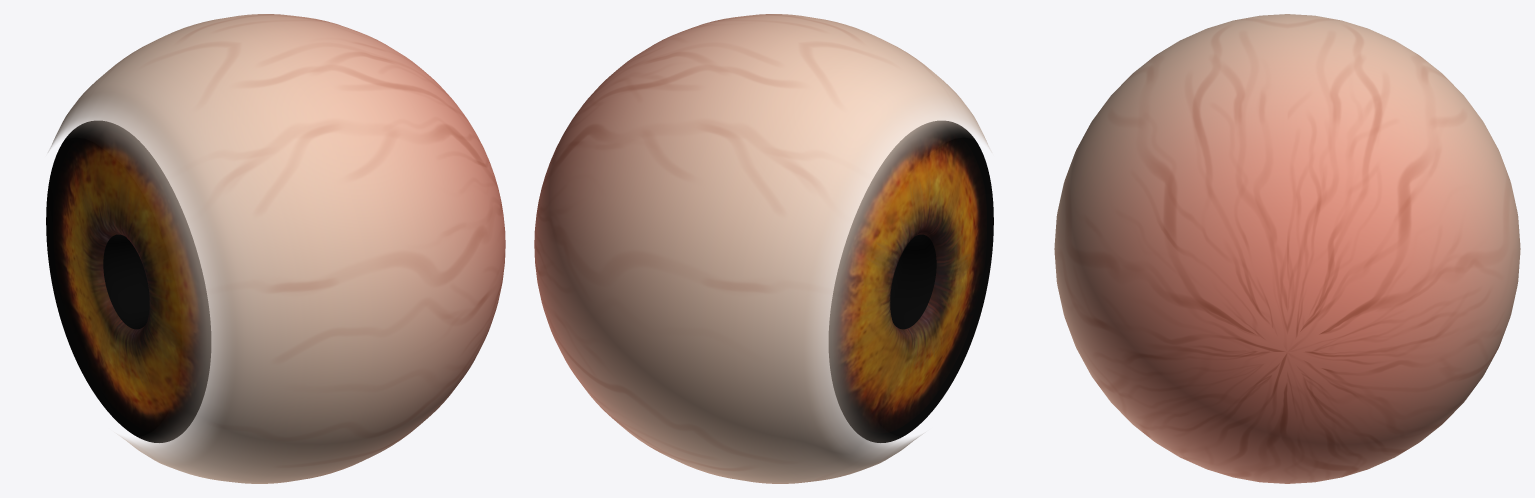
File: eye.glb
The picture shows the model from 3 angles, left to right: view 1: azimuth 30°, elevation 25°; view 2: azimuth 150°, elevation 25°; view 3: azimuth 270°, elevation 25°; orthographic projection.
Visible parts, largest first — view 1: Cornea_0, Iris_1; view 2: Cornea_0, Iris_1; view 3: Cornea_0.
Boxes of the visible parts, x1,y1,x2,y2 form: Cornea_0: (48,14,505,483); Iris_1: (46,120,210,442); Cornea_0: (534,14,991,483); Iris_1: (829,120,993,442); Cornea_0: (1054,14,1520,483).
Bounding box in the file's own units: 2.02 × 1.9 × 1.9.
Materials: 3 (2 with a texture image).
